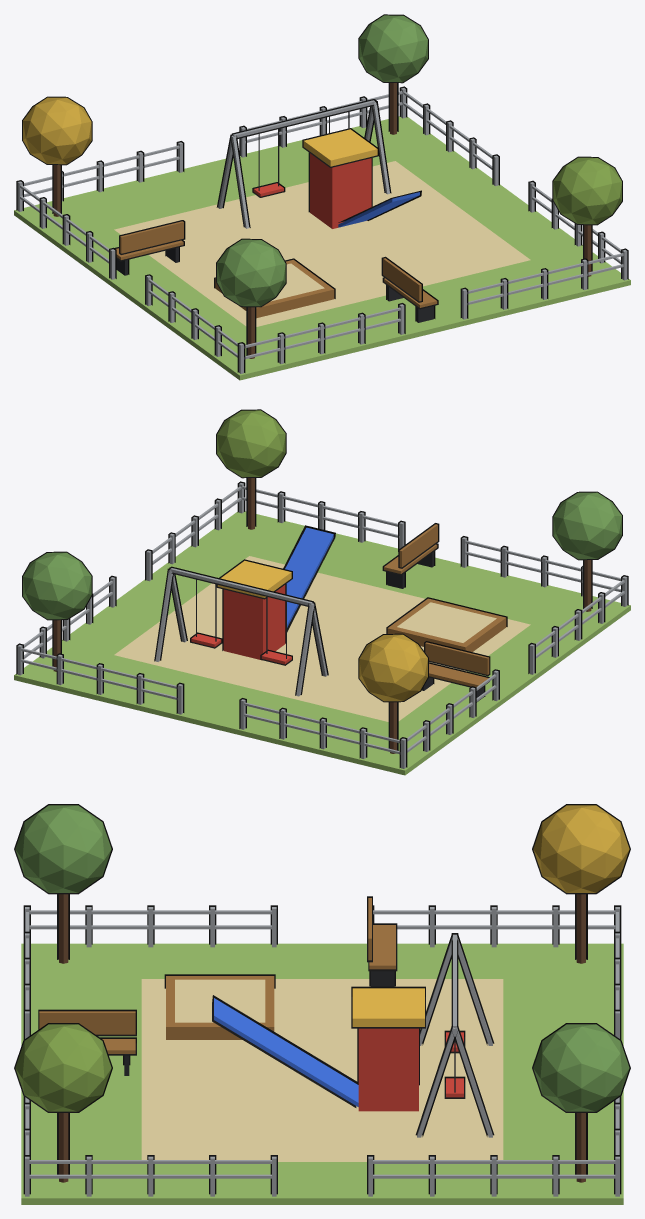
File: Avlu_oyun.fbx
3 views of the same model, one above another, from view 1: azimuth 30°, elevation 25°; view 2: azimuth 150°, elevation 25°; view 3: azimuth 270°, elevation 25° (orthographic). The views are drawn at different scales.
Parts seen in each view (by area): view 1: Avlu_oyun; view 2: Avlu_oyun; view 3: Avlu_oyun.
Boxes of the visible parts, x1,y1,x2,y2 form: Avlu_oyun: (14, 14, 630, 380); Avlu_oyun: (14, 409, 630, 775); Avlu_oyun: (14, 804, 630, 1204).
Bounding box in the file's own units: 10.24 × 2.96 × 10.25.
